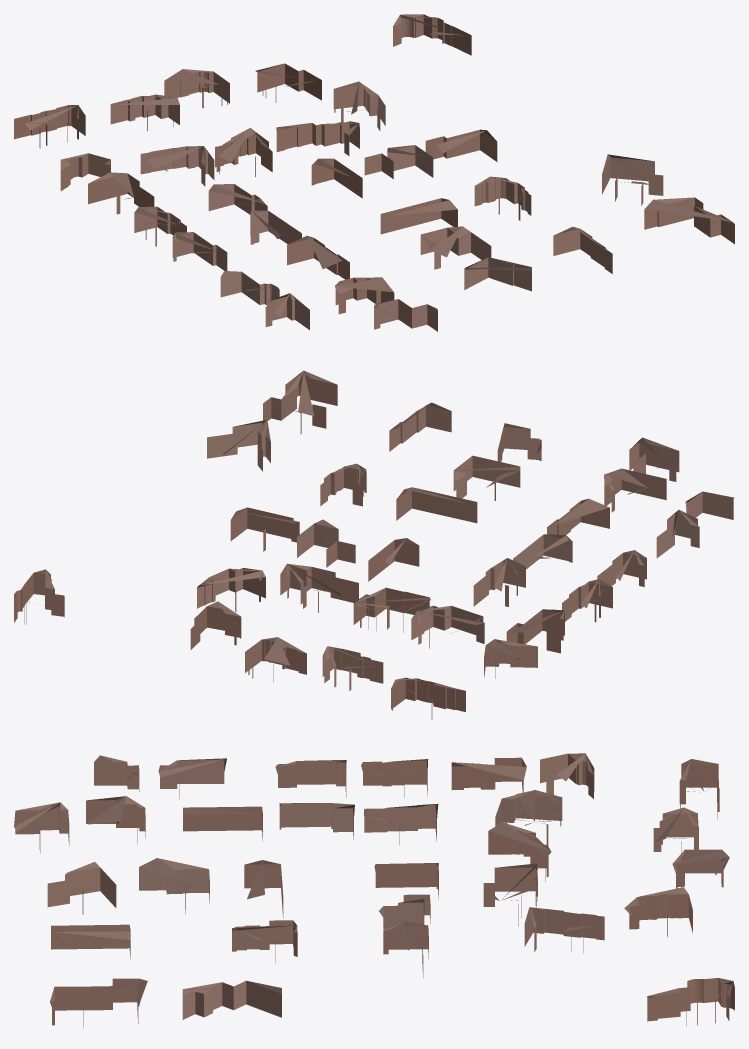
The model's file is c_1648_17823_buildings_residential.glb.
3 renders of one model, top to bottom at view 1: azimuth 30°, elevation 25°; view 2: azimuth 150°, elevation 25°; view 3: azimuth 270°, elevation 25°, orthographic. The views are drawn at different scales.
Visible parts, largest first — view 1: geometry_0; view 2: geometry_0; view 3: geometry_0.
Part boxes in pixels (x1=…): geometry_0: x1=14, y1=14, x2=734, y2=331; geometry_0: x1=14, y1=370, x2=734, y2=719; geometry_0: x1=14, y1=753, x2=734, y2=1027.
Bounding box in the file's own units: 213 × 10.94 × 253.
